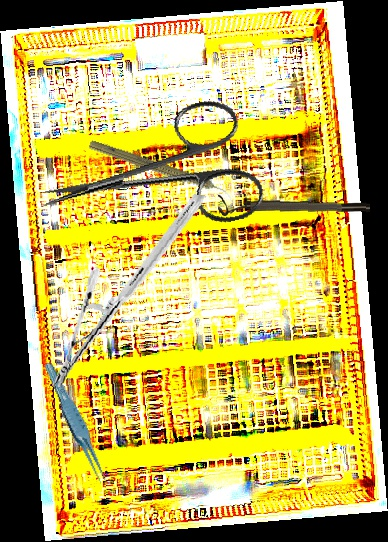Fixation Ring: (217, 195, 371, 221)
Handpiece: (86, 137, 240, 205)
Iris Scissors: (27, 93, 269, 262)
Needle Holder: (51, 178, 205, 404)
Tissue Forceps: (43, 358, 110, 493)
